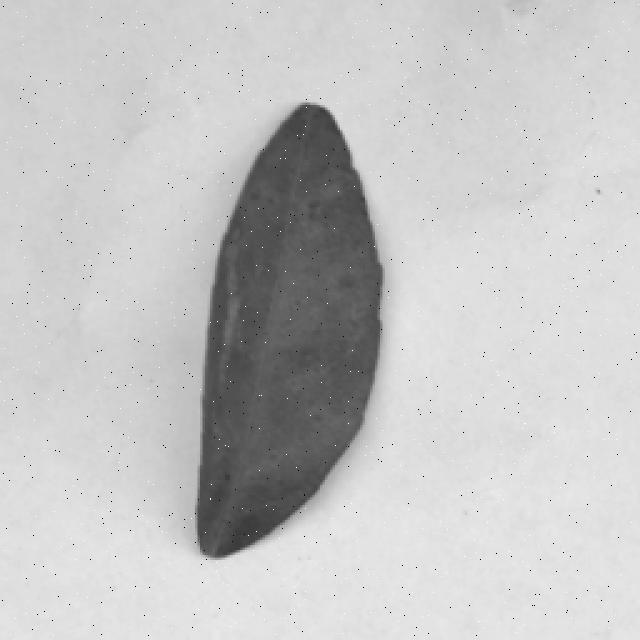greening: (162, 111, 423, 554)
